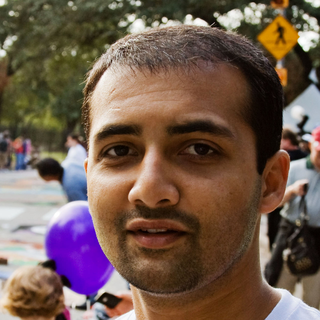eye: (173, 139, 226, 162), (94, 141, 143, 162)
